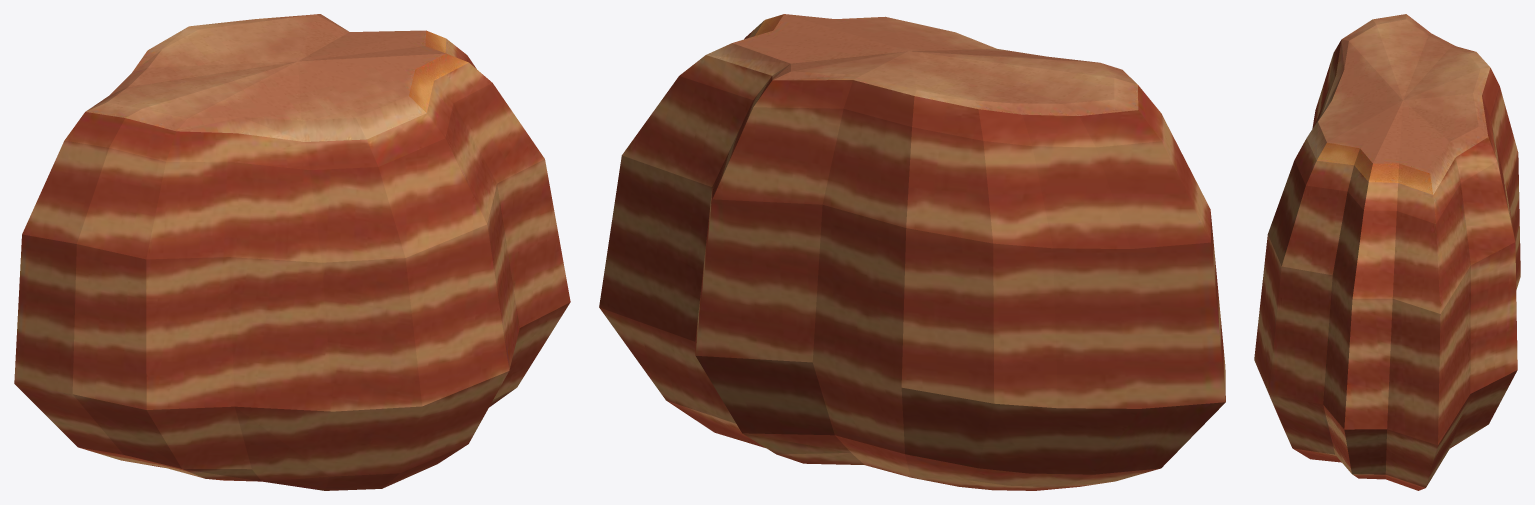
The picture shows the model from 3 angles, left to right: view 1: azimuth 30°, elevation 25°; view 2: azimuth 150°, elevation 25°; view 3: azimuth 270°, elevation 25°; orthographic projection. The views are drawn at different scales.
Parts seen in each view (by area): view 1: Canyon_sandstone_layered_fracture, Faint_sandstone_powder, Warm_sunset_edge_tint; view 2: Canyon_sandstone_layered_fracture, Faint_sandstone_powder; view 3: Canyon_sandstone_layered_fracture, Faint_sandstone_powder, Warm_sunset_edge_tint.
Boxes of the visible parts, <box> form: Canyon_sandstone_layered_fracture: <box>14,39,570,490</box>; Faint_sandstone_powder: <box>85,14,445,141</box>; Warm_sunset_edge_tint: <box>409,30,468,112</box>; Canyon_sandstone_layered_fracture: <box>599,21,1225,490</box>; Faint_sandstone_powder: <box>706,14,1138,115</box>; Canyon_sandstone_layered_fracture: <box>1254,40,1520,490</box>; Faint_sandstone_powder: <box>1306,14,1490,194</box>; Warm_sunset_edge_tint: <box>1317,142,1433,194</box>.
Bounding box in the file's own units: 0.94 × 0.658 × 0.47.
3 materials, 3 textured.
